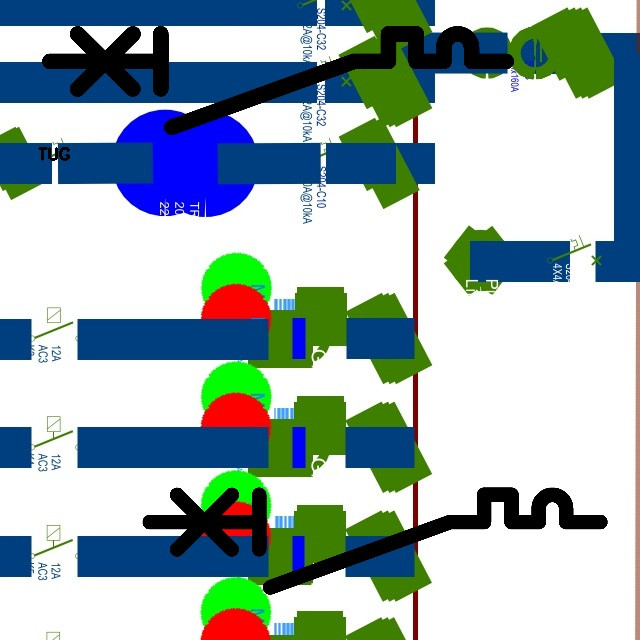interruptor_termomagnetico: (38, 22, 518, 139), (138, 483, 612, 599)
